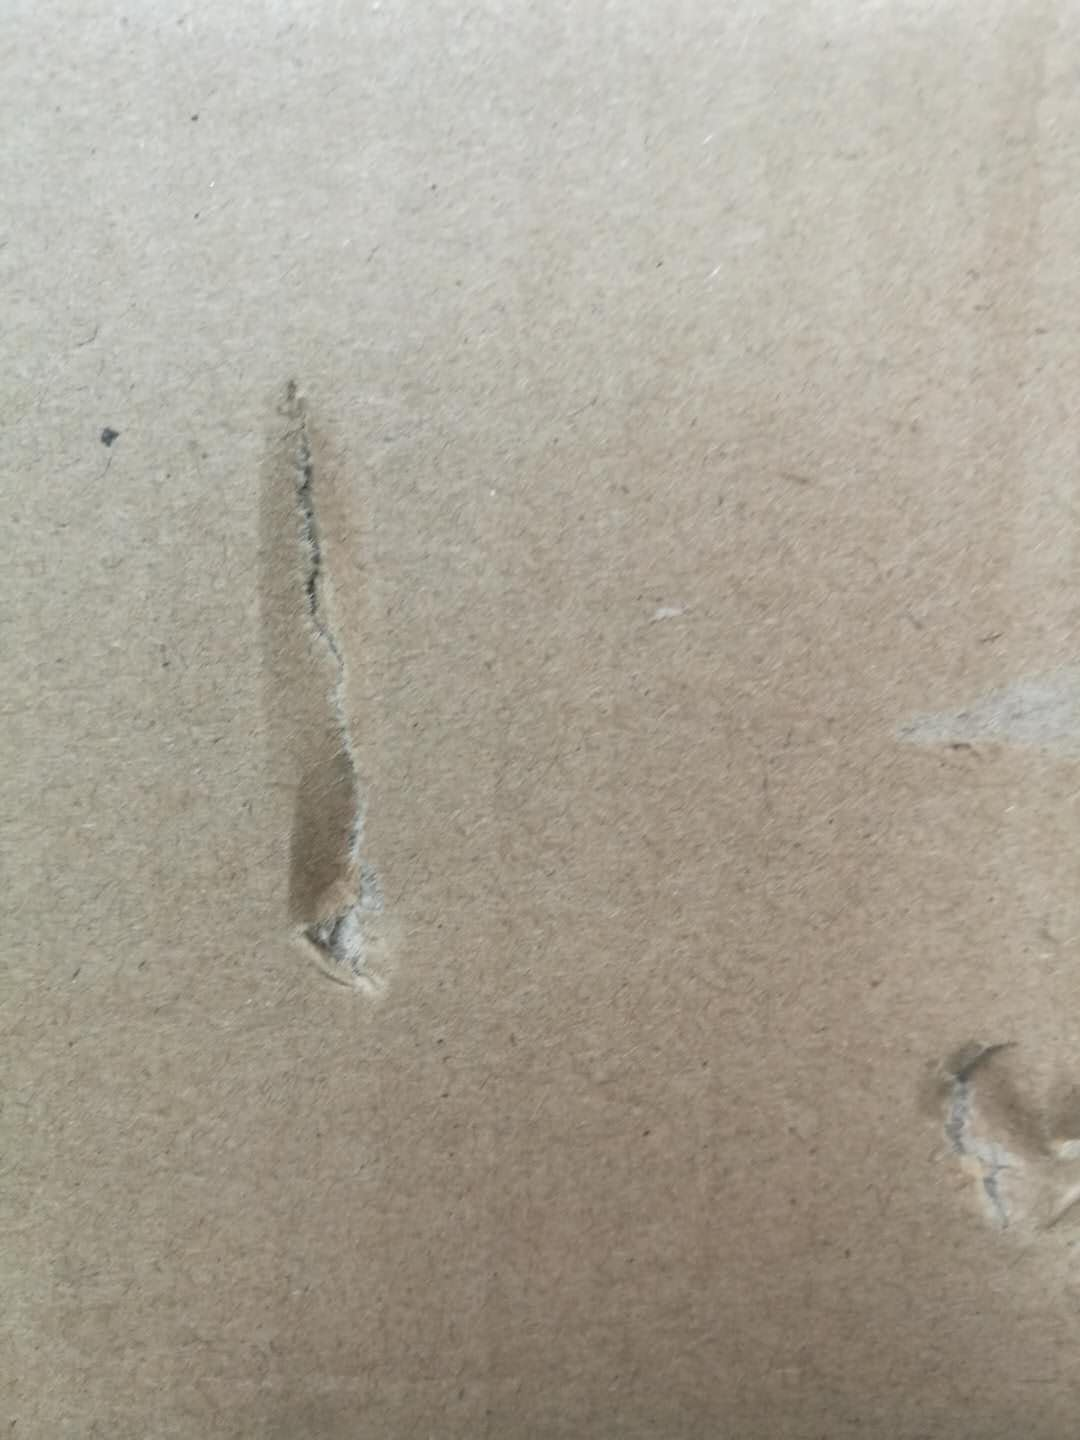defect: (222, 348, 445, 1044), (906, 1013, 1080, 1295), (886, 645, 1080, 791)
